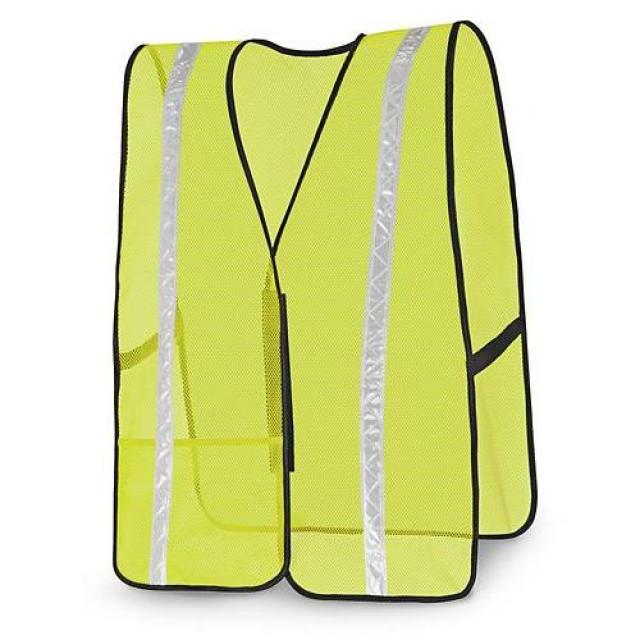Reflective-Jacket: (42, 8, 576, 628)
